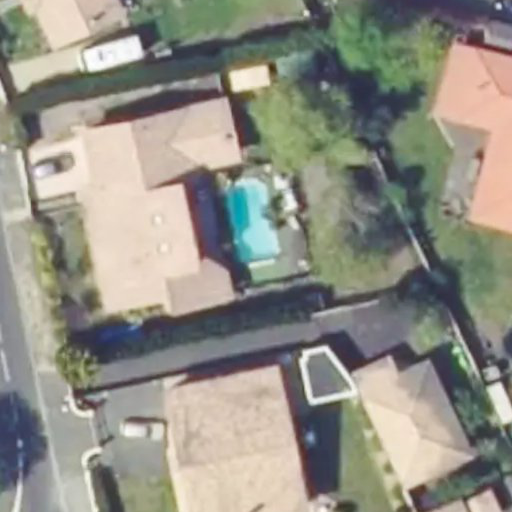pool: (228, 180, 281, 264)
